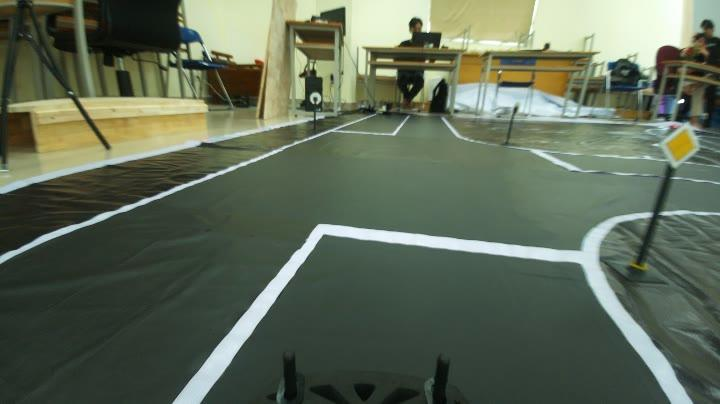priority: (654, 119, 706, 172)
